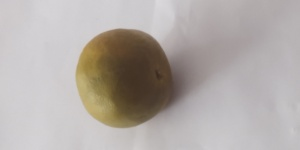BAD: (72, 25, 174, 131)
